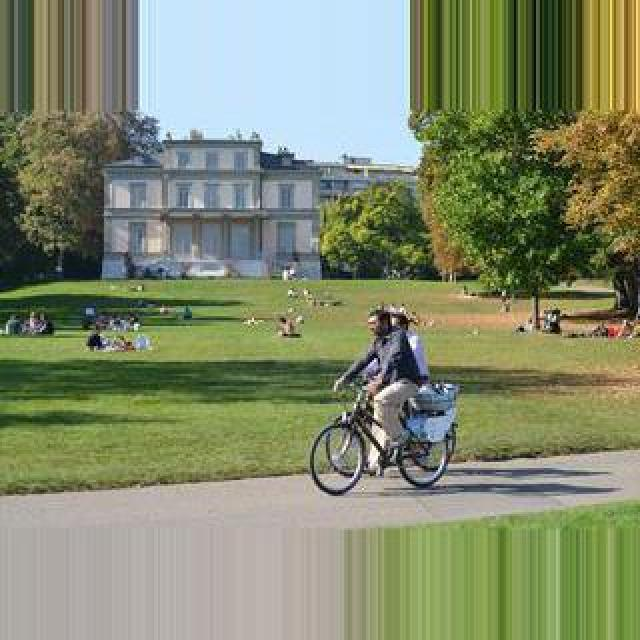Bus-Bike: (168, 258, 232, 280)
MC-Bike: (334, 304, 428, 474)
Person: (308, 378, 458, 496)
